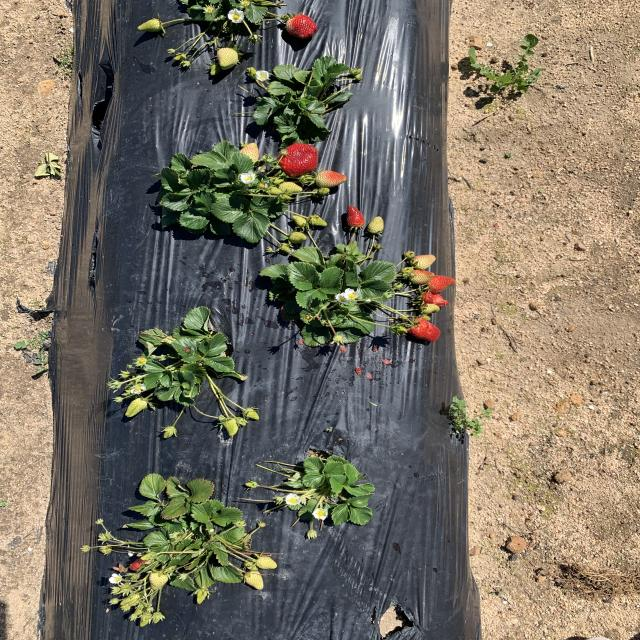unripe: (276, 141, 319, 176), (284, 13, 318, 40)
